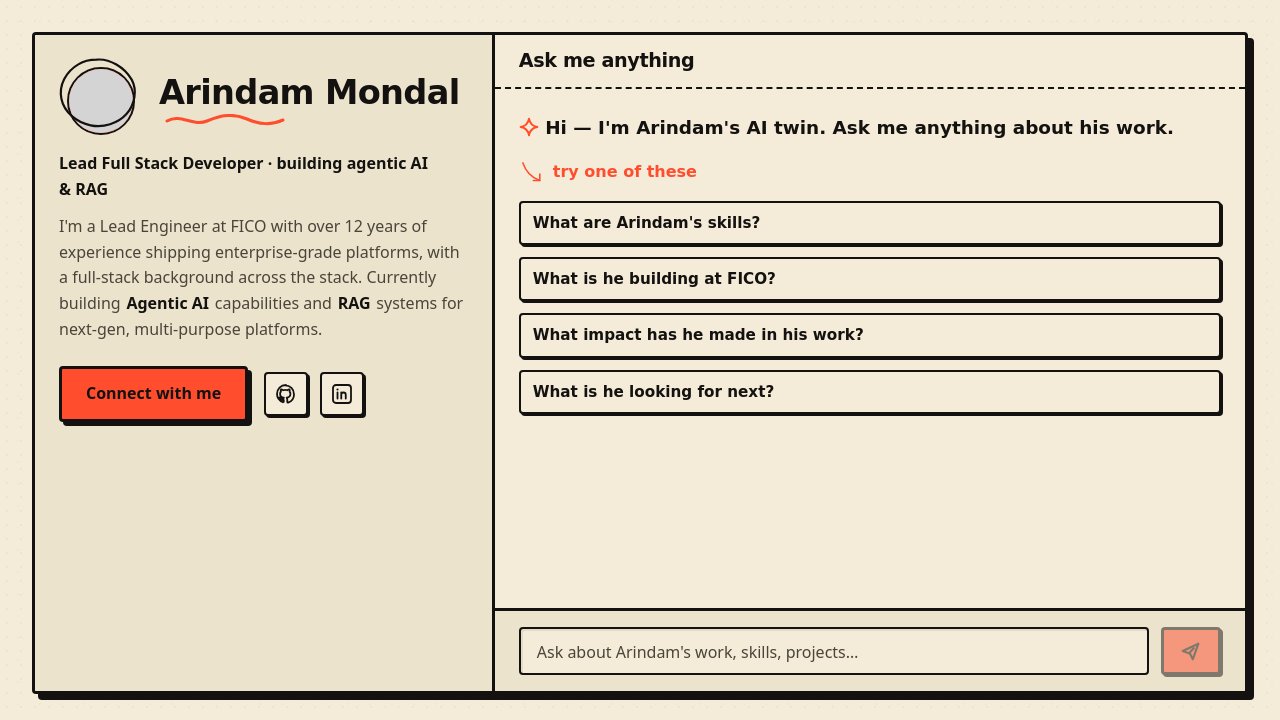
Test case: App › opens the connect dialog from the CTA
Click the button "Connect with me".
click(154, 394)  # box [59,366,248,422]
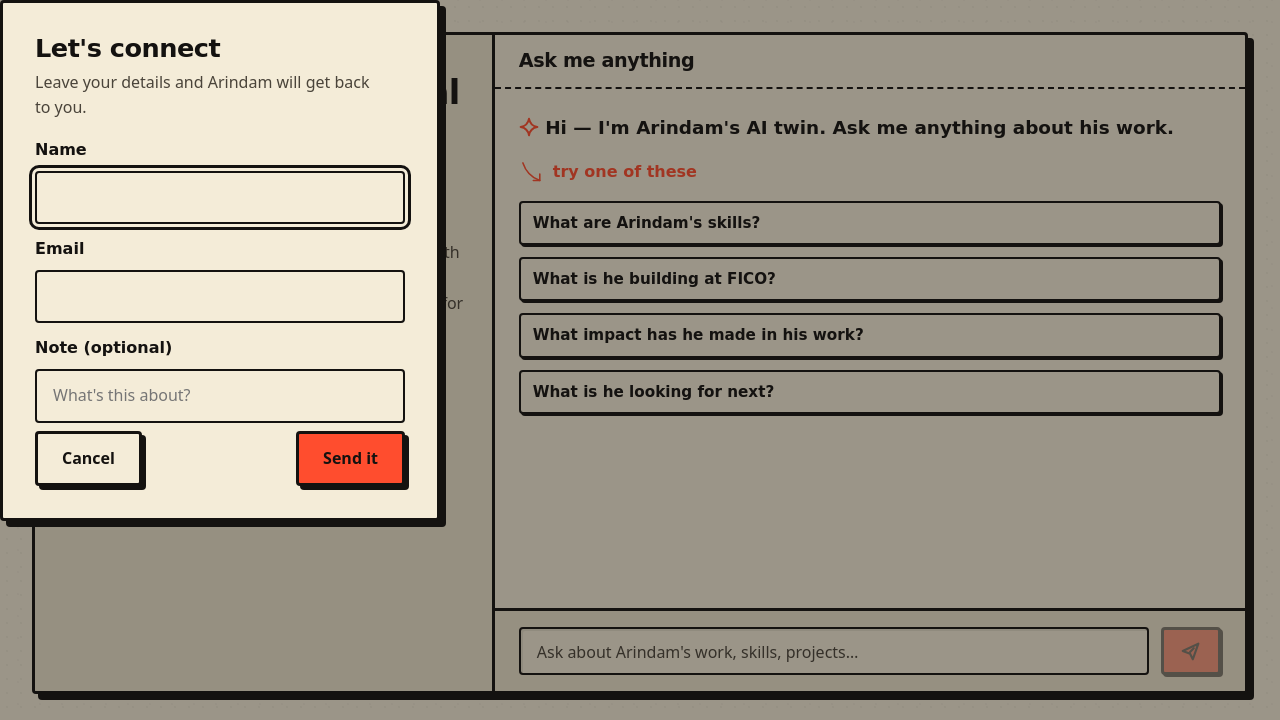
Check: the heading "Let's connect" is shown, box [35,33,220,63]
